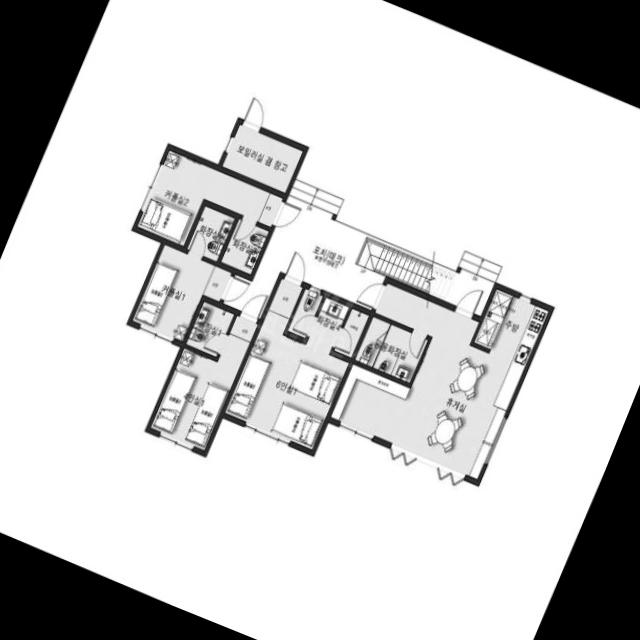background: (0, 0, 640, 640)
space_bedroom: (224, 309, 348, 449), (137, 149, 269, 245), (150, 333, 249, 449), (132, 244, 214, 341)
space_front: (268, 278, 302, 317), (202, 265, 231, 301), (257, 192, 282, 226), (229, 315, 257, 341)
space_kitchen: (473, 288, 548, 368)
space_other: (330, 282, 523, 478), (221, 124, 302, 192)
space_staircase: (354, 236, 432, 293)
space_toilet: (287, 288, 368, 357), (354, 316, 427, 382), (186, 205, 234, 261), (220, 218, 268, 273), (185, 301, 233, 356)
